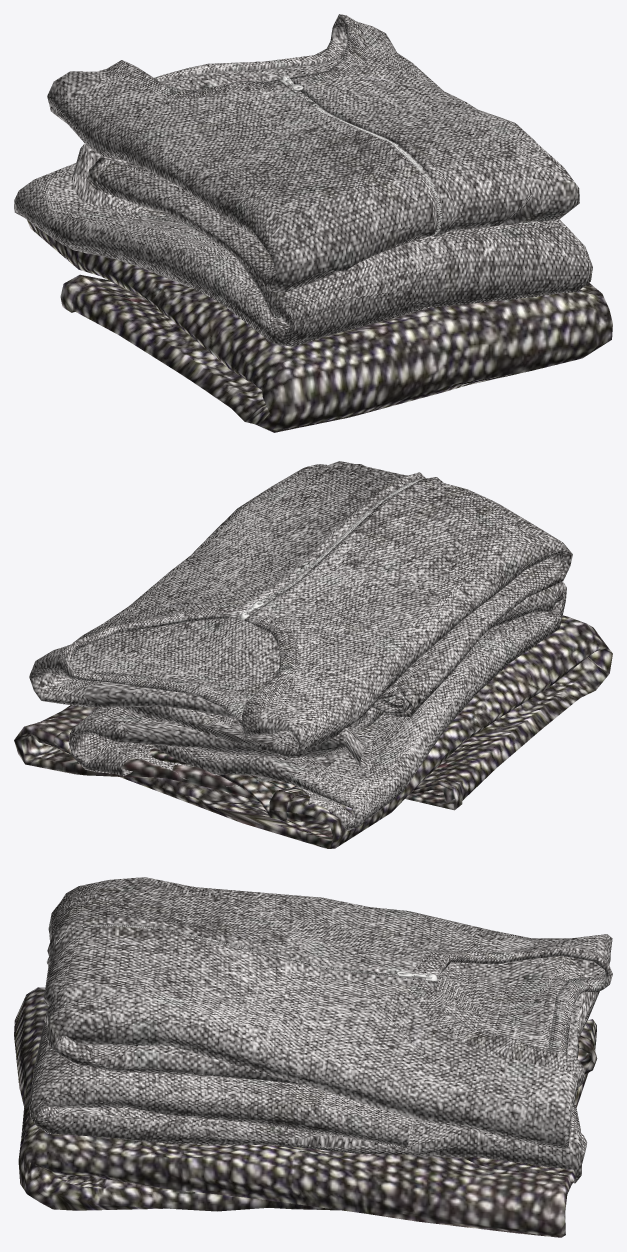
The model's file is shelf-group_folded_items2.glb.
3 renders of one model, top to bottom at view 1: azimuth 30°, elevation 25°; view 2: azimuth 150°, elevation 25°; view 3: azimuth 270°, elevation 25°, orthographic. The views are drawn at different scales.
Parts seen in each view (by area): view 1: cloth04.001, cloth040.001, cloth042.001, Zipper.001; view 2: cloth04.001, cloth040.001, cloth042.001, Zipper.001; view 3: cloth04.001, cloth040.001, cloth042.001.
Boxes of the visible parts, x1,y1,x2,y2 form: cloth04.001: (47, 14, 579, 292); cloth040.001: (27, 220, 612, 432); cloth042.001: (14, 143, 592, 346); Zipper.001: (285, 82, 442, 236); cloth04.001: (29, 461, 572, 758); cloth040.001: (14, 615, 612, 848); cloth042.001: (68, 582, 566, 830); Zipper.001: (240, 478, 426, 619); cloth04.001: (43, 877, 612, 1149); cloth040.001: (14, 987, 597, 1237); cloth042.001: (28, 1006, 587, 1183).
Size of the model in its own units: 0.3353 by 0.1582 by 0.3989.
Materials: 3 (2 with a texture image).
